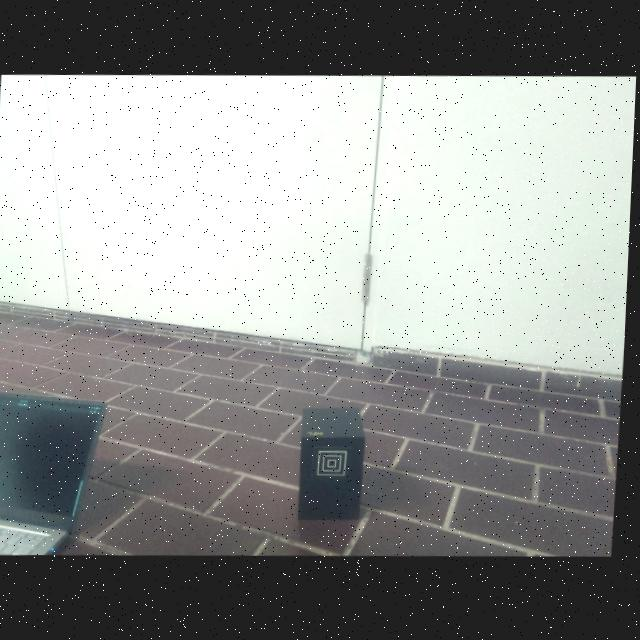BULLSEYE: (321, 452, 351, 478)
